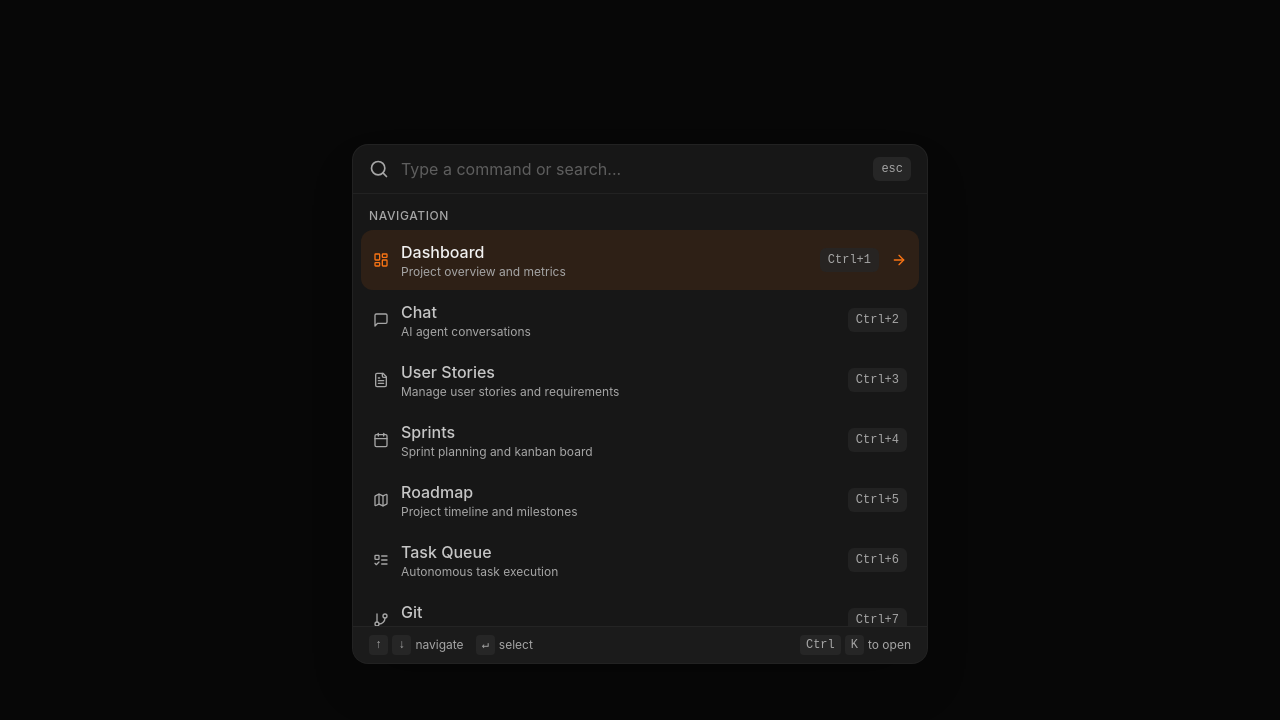
Test: CommandPalette › Search filtering › should filter commands by keywords
Note: Use fireEvent.change instead of userEvent.type to avoid character interleaving
Type "kanban" into the field with placeholder "Type a command or search...".
click(631, 169); type("kanban")  # box [401, 157, 861, 181]
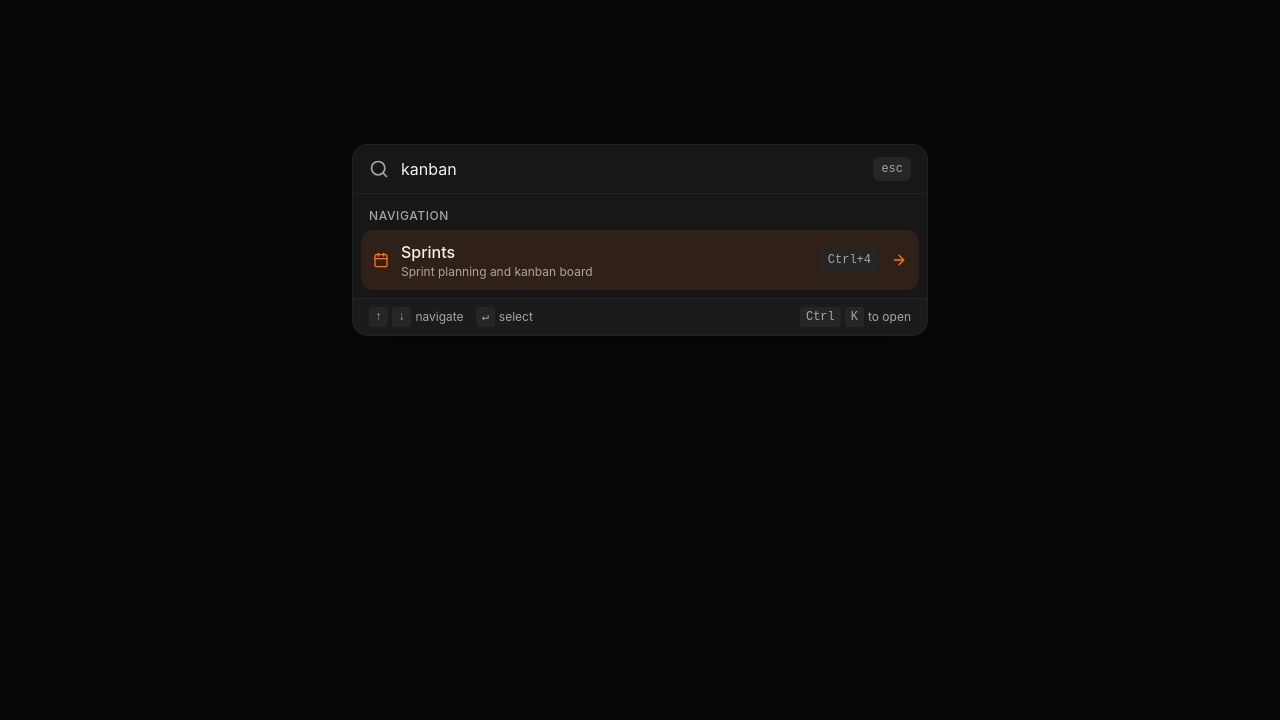
Expected: the text "Sprints" is shown, [401, 242, 455, 262]
Now the button "Dashboard" is gone
